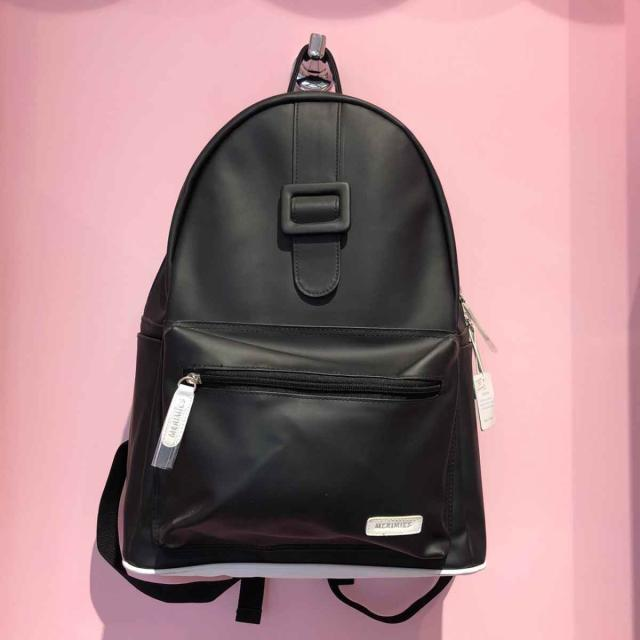handbag: (115, 88, 490, 585)
